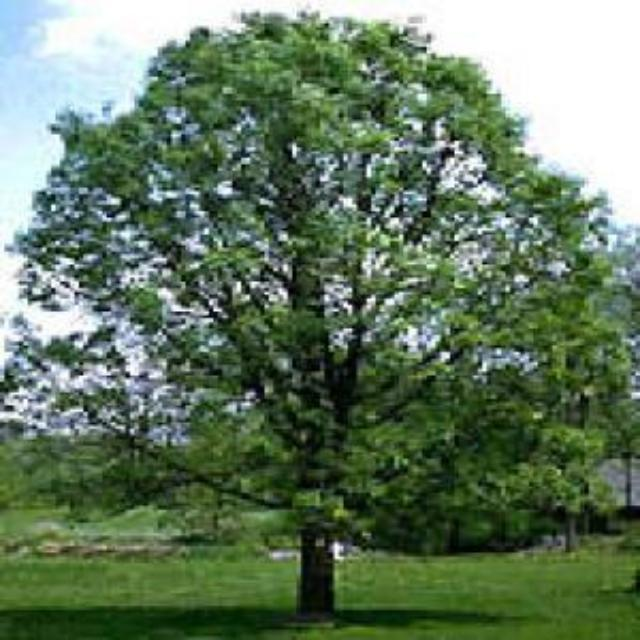tree: (1, 4, 632, 616)
